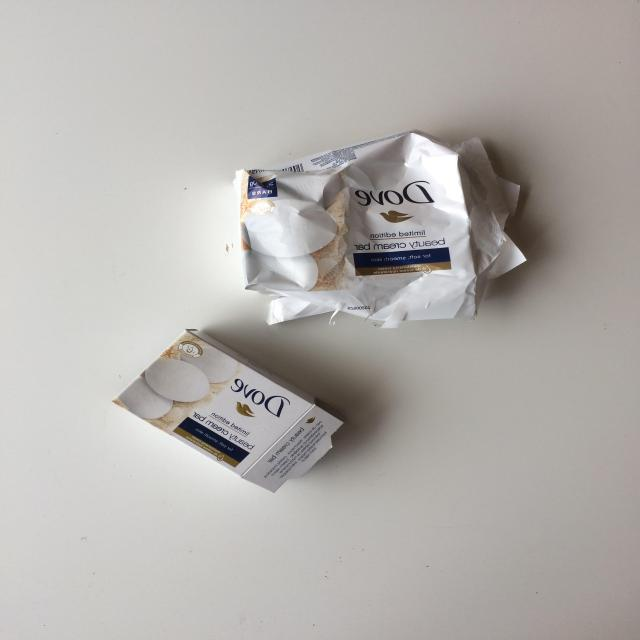cardboard: (232, 130, 538, 329), (112, 330, 336, 493)
